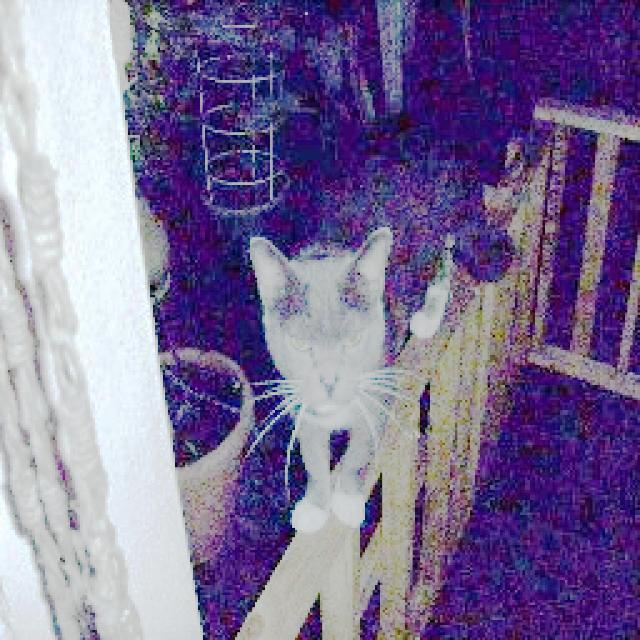cat: (235, 231, 407, 538)
